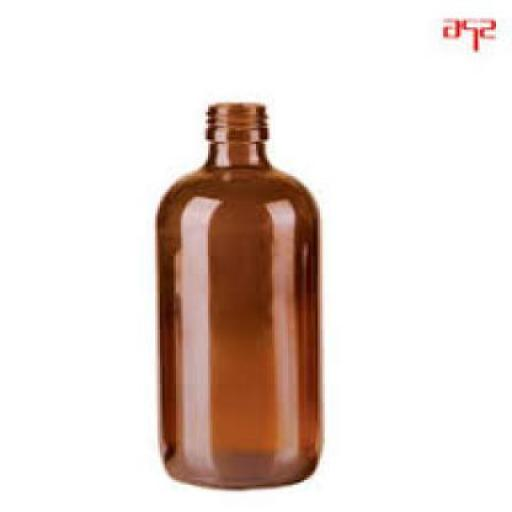glass: (160, 100, 325, 490)
